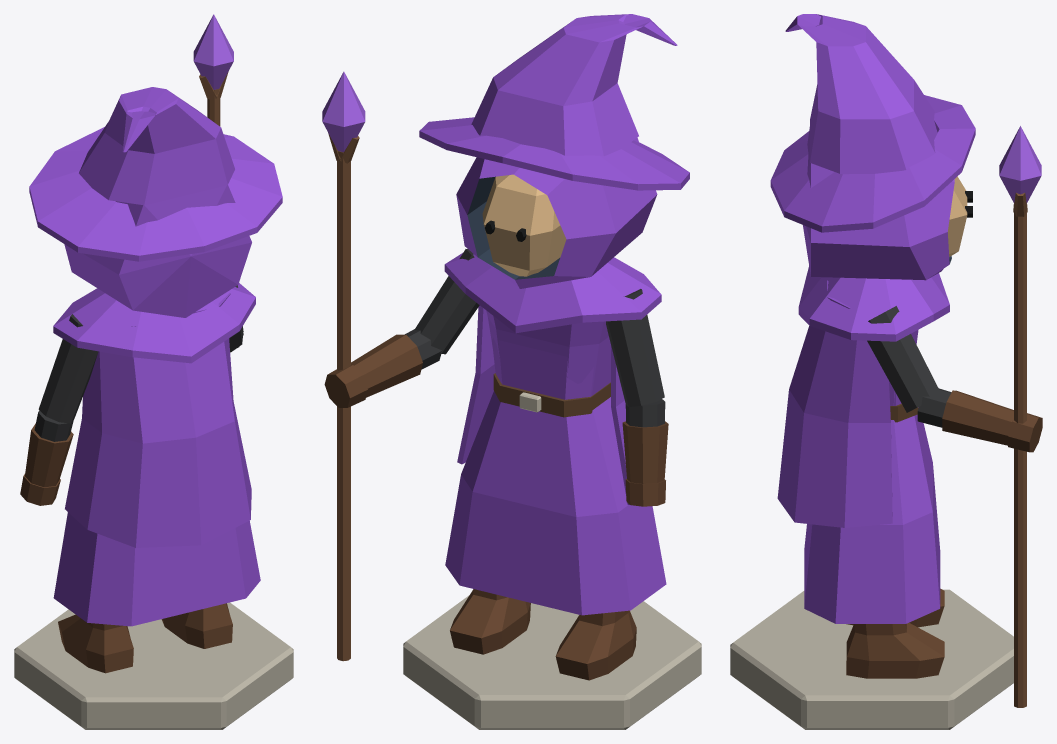
File: human_mage_t3.glb
3 views of the same model, side by side, from view 1: azimuth 30°, elevation 25°; view 2: azimuth 150°, elevation 25°; view 3: azimuth 270°, elevation 25° (orthographic). The views are drawn at different scales.
Parts seen in each view (by area): view 1: Caster_Short_Back_Cape, Foundation_Hexagonal_Stone, Mage_One_Broad_Thin_Wizard_Brim, Caster_Continuous_Long_Robe, Mage_One_Left_Back_Bent_Wizard_Hat, Caster_Open_Low_Cowl, Plain_Caster_Shoulder_Mantle, Boot_-1, left_upper_sleeve, Boot_1, left_bracer, Mage_Exactly_One_Violet_Diamond_Crystal (+2 smaller); view 2: Caster_Continuous_Long_Robe, Foundation_Hexagonal_Stone, Mage_One_Left_Back_Bent_Wizard_Hat, Caster_Open_Low_Cowl, Plain_Caster_Shoulder_Mantle, Mage_One_Broad_Thin_Wizard_Brim, Mage_One_Plain_Wooden_Staff_Shaft, Angular_Face, Boot_-1, Boot_1, Continuous_Tunic_Bodice, left_upper_sleeve (+10 smaller); view 3: Foundation_Hexagonal_Stone, Caster_Short_Back_Cape, Caster_Continuous_Long_Robe, Mage_One_Left_Back_Bent_Wizard_Hat, Mage_One_Broad_Thin_Wizard_Brim, Caster_Open_Low_Cowl, Plain_Caster_Shoulder_Mantle, Mage_One_Plain_Wooden_Staff_Shaft, Boot_1, right_upper_sleeve, right_bracer, Mage_Exactly_One_Violet_Diamond_Crystal (+3 smaller).
Part boxes in pixels (x1,y1,x2,y2): Caster_Short_Back_Cape: (65,338,251,547); Foundation_Hexagonal_Stone: (14,602,293,729); Mage_One_Broad_Thin_Wizard_Brim: (29,127,282,261); Caster_Continuous_Long_Robe: (53,293,260,626); Mage_One_Left_Back_Bent_Wizard_Hat: (79,87,234,205); Caster_Open_Low_Cowl: (64,185,251,317); Plain_Caster_Shoulder_Mantle: (53,283,255,363); Boot_-1: (58,614,133,673); left_upper_sleeve: (38,314,98,423); Boot_1: (161,603,232,648); left_bracer: (25,423,73,487); Mage_Exactly_One_Violet_Diamond_Crystal: (193,14,233,89); Caster_Continuous_Long_Robe: (445,262,666,615); Foundation_Hexagonal_Stone: (403,595,701,729); Mage_One_Left_Back_Bent_Wizard_Hat: (471,14,677,156); Caster_Open_Low_Cowl: (456,137,657,288); Plain_Caster_Shoulder_Mantle: (444,253,661,333); Mage_One_Broad_Thin_Wizard_Brim: (419,117,689,190); Mage_One_Plain_Wooden_Staff_Shaft: (337,151,350,661); Angular_Face: (482,174,566,276); Boot_-1: (555,610,636,680); Boot_1: (450,589,530,654); Continuous_Tunic_Bodice: (492,338,593,399); left_upper_sleeve: (606,289,664,406); Foundation_Hexagonal_Stone: (730,589,1013,729); Caster_Short_Back_Cape: (777,326,892,527); Caster_Continuous_Long_Robe: (804,280,940,623); Mage_One_Left_Back_Bent_Wizard_Hat: (785,14,937,173); Mage_One_Broad_Thin_Wizard_Brim: (770,95,975,232); Caster_Open_Low_Cowl: (803,127,954,280); Plain_Caster_Shoulder_Mantle: (798,266,949,341); Mage_One_Plain_Wooden_Staff_Shaft: (1014,204,1026,707); Boot_1: (846,623,944,678); right_upper_sleeve: (867,306,938,412); right_bracer: (942,390,1013,445); Mage_Exactly_One_Violet_Diamond_Crystal: (999,126,1041,203).
Size of the model in its own units: 1.02 by 2.2 by 0.983.
